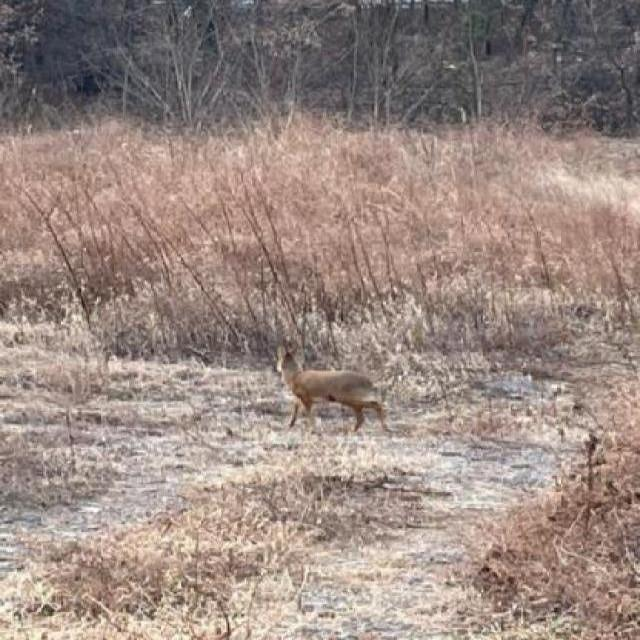deer: (266, 348, 414, 433)
